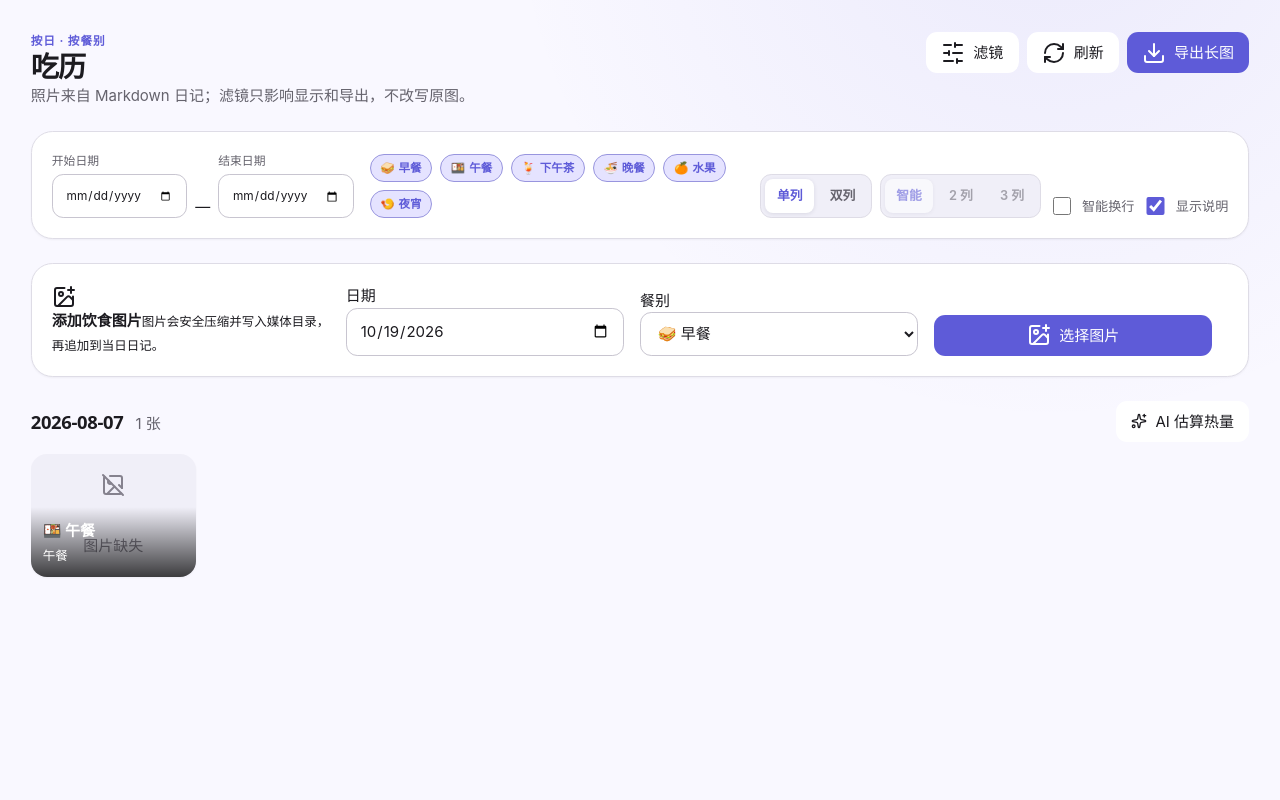
Test case: MealPage AI calorie integration › refreshes the day only after the atomic estimate command succeeds
Step 1. Click the button "AI 估算热量" → (1183, 421), box [1116, 401, 1249, 442]
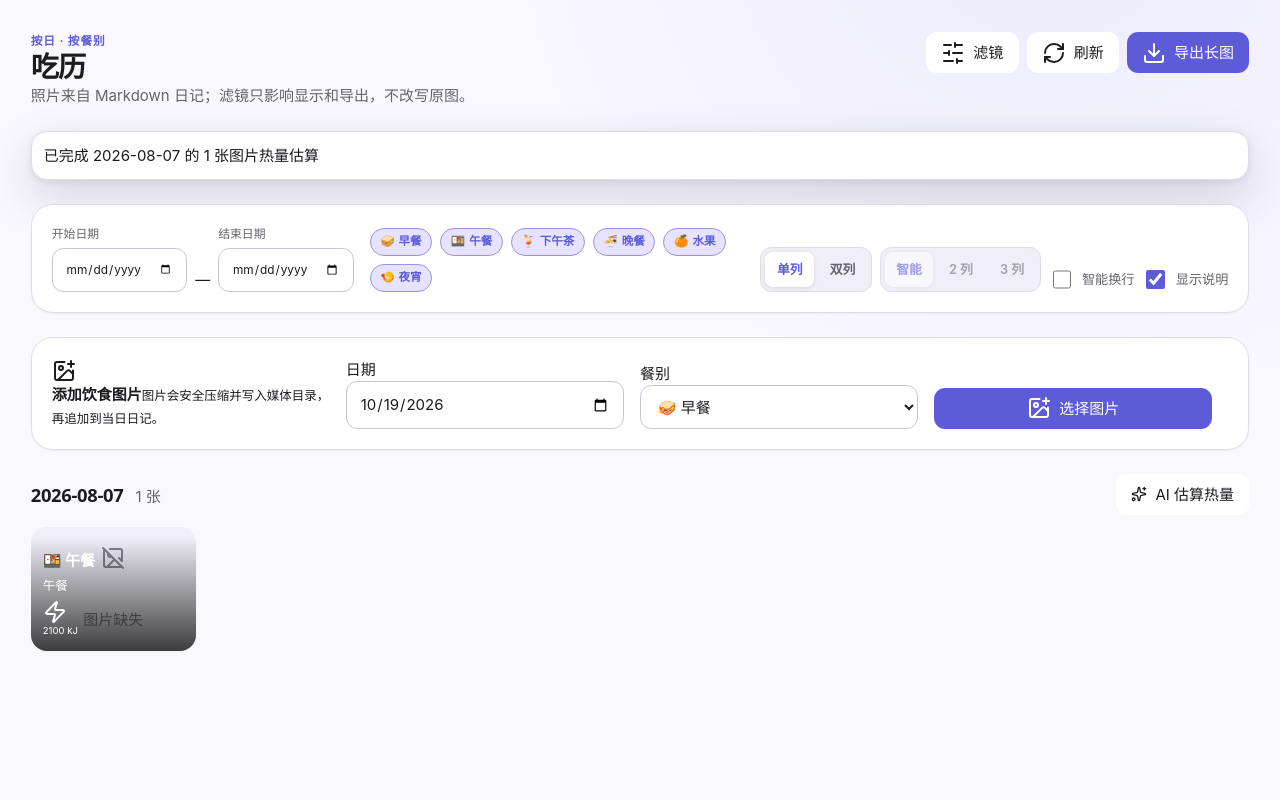
Expected: the text "2100 kJ" is shown, [43, 600, 78, 639]
